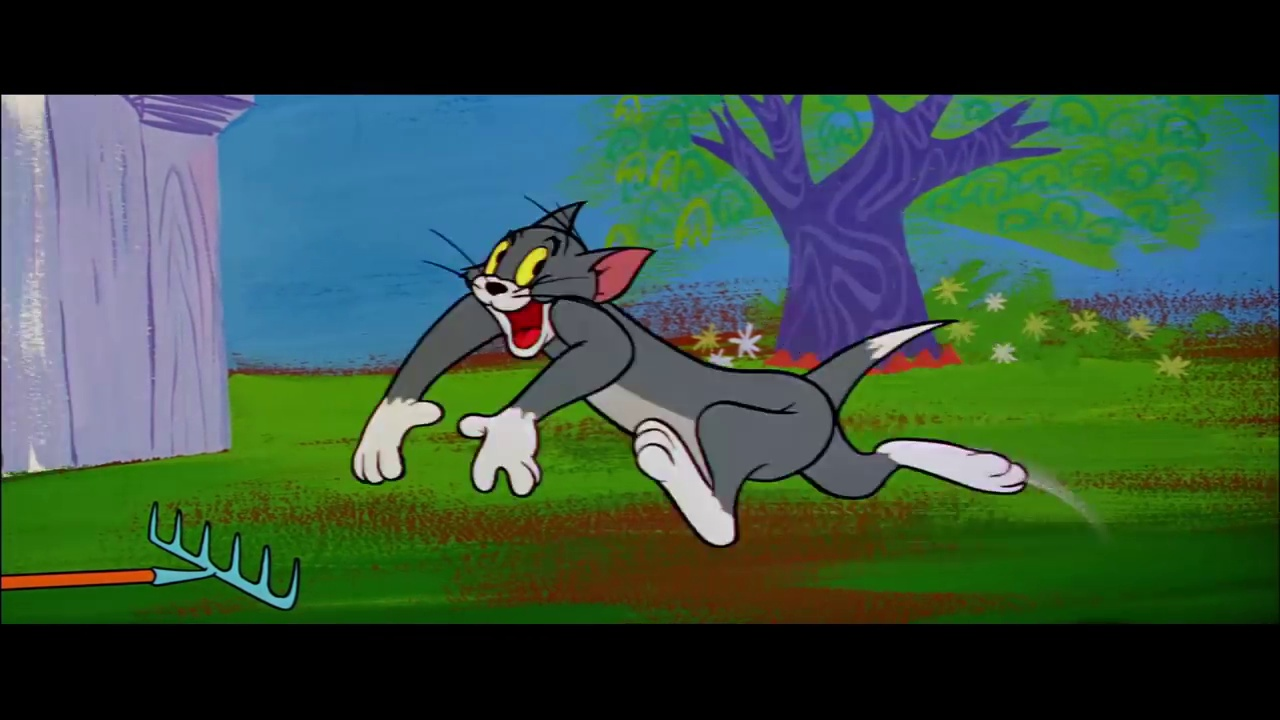tom: (452, 194, 655, 361)
